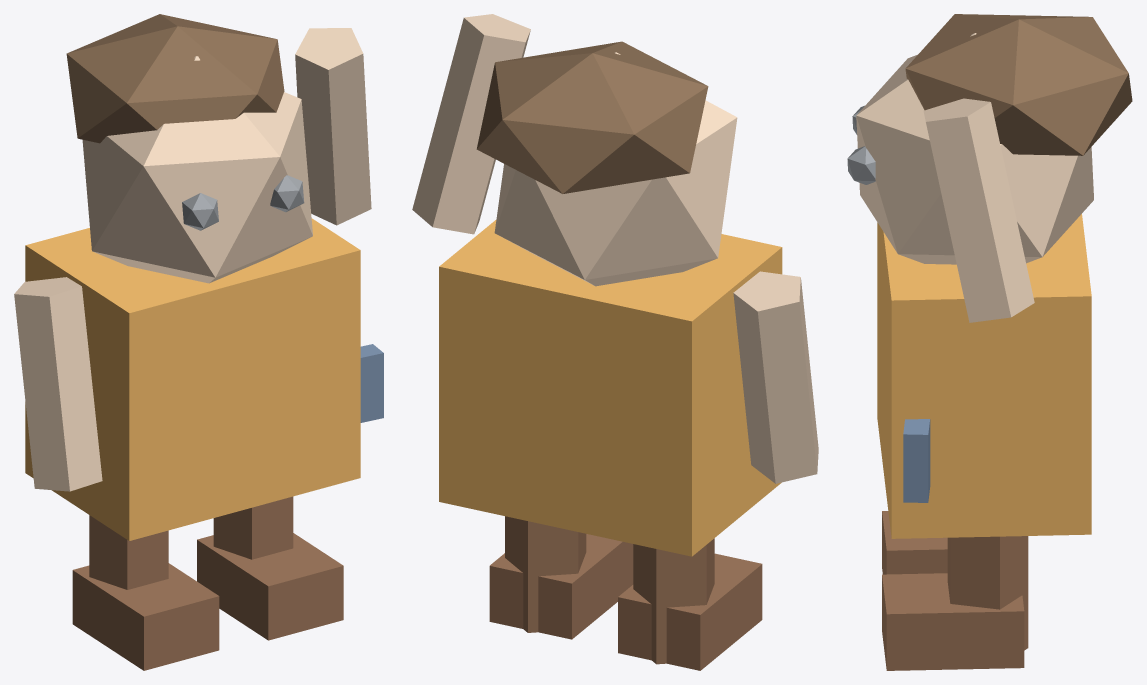
File: npcpose_villager_wave_11.glb
3 views of the same model, side by side, from view 1: azimuth 30°, elevation 25°; view 2: azimuth 150°, elevation 25°; view 3: azimuth 270°, elevation 25° (orthographic). The views are drawn at different scales.
Visible parts, largest first — view 1: npcpose; view 2: npcpose; view 3: npcpose.
Part boxes in pixels (<box>): npcpose: <box>14,14,383,670</box>; npcpose: <box>412,14,818,670</box>; npcpose: <box>847,14,1132,670</box>.
Size of the model in its own units: 0.695 by 1.06 by 0.4552.
